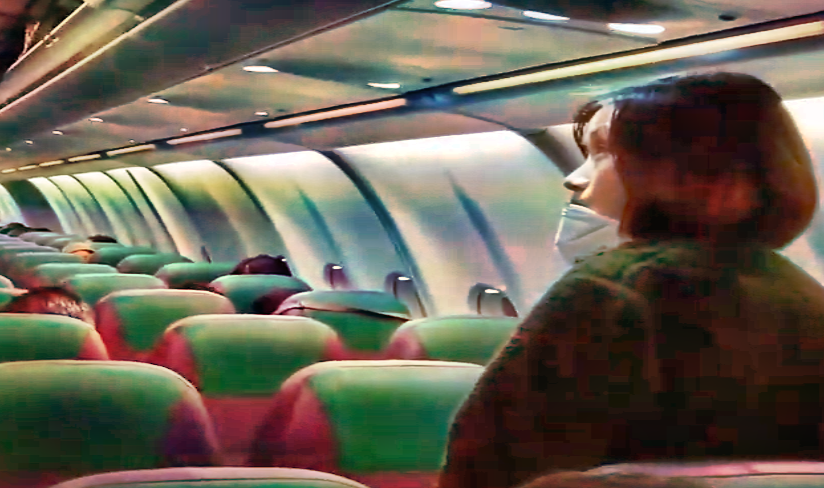mask_weared_incorrect: (549, 68, 711, 265)
